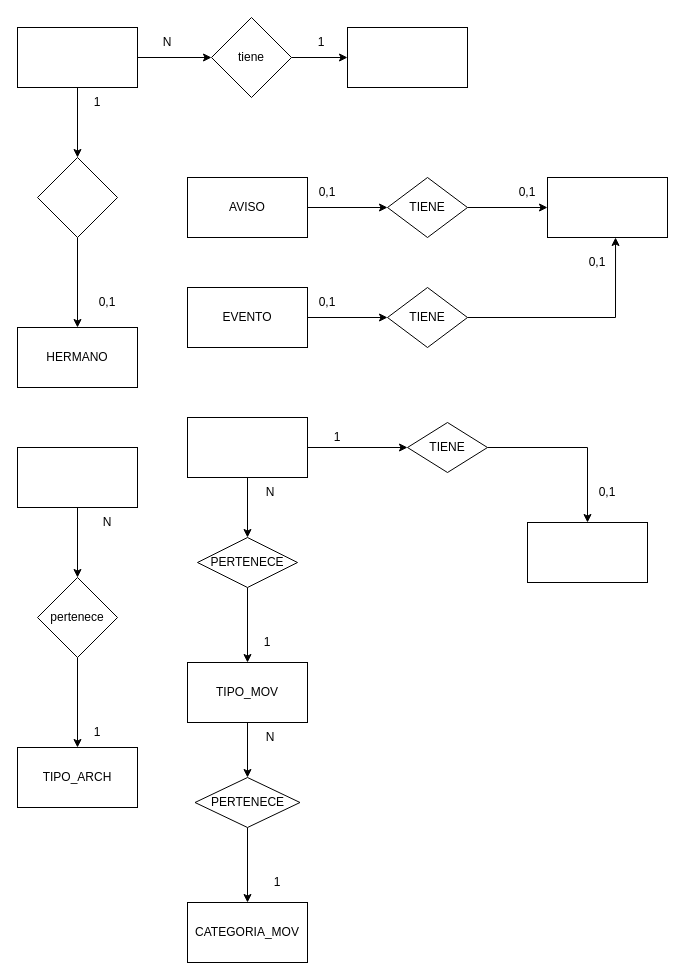
Image size: 685x980. Some labels were removed from this diagram. The box of each missing label's shape, as (x1, y1, x2, y2) in pixels:
ARCHIVO: (16, 446, 138, 508)
DOCUMENTO JUSTIFICANTE: (526, 522, 648, 582)
es de: (36, 156, 118, 238)
FOTO: (546, 176, 668, 238)
MOVIMIENTO: (186, 416, 308, 478)
ROLE: (346, 26, 468, 88)
USUARIO: (16, 26, 138, 88)
